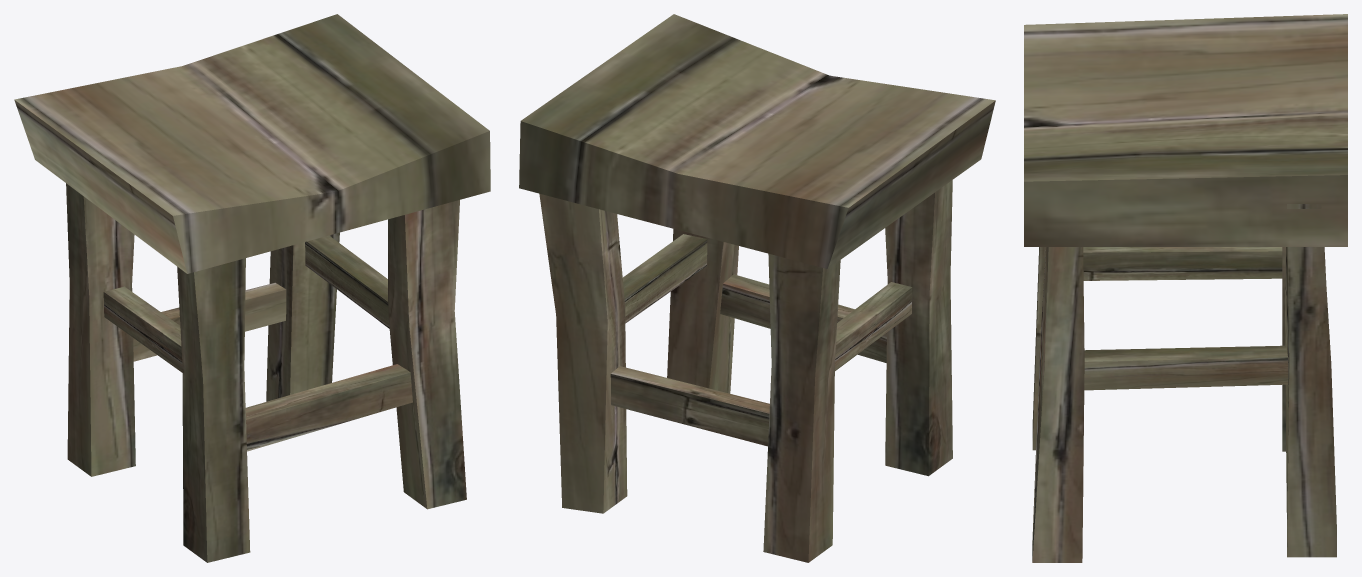
File: stool_shanty.fbx
3 views of the same model, side by side, from view 1: azimuth 30°, elevation 25°; view 2: azimuth 150°, elevation 25°; view 3: azimuth 270°, elevation 25° (orthographic). The views are drawn at different scales.
Visible parts, largest first — view 1: barstool_seat1, barstool_leg09, barstool_leg07, barstool_leg010, barstool_leg08, barstool_bar05, barstool_bar07, barstool_bar08, barstool_bar06; view 2: barstool_seat1, barstool_leg08, barstool_leg010, barstool_leg07, barstool_leg09, barstool_bar06, barstool_bar07, barstool_bar08, barstool_bar05; view 3: barstool_seat1, barstool_leg09, barstool_leg08, barstool_bar07, barstool_bar08, barstool_leg07, barstool_leg010.
Part boxes in pixels (x1,y1,x2,y2): barstool_seat1: (14, 14, 490, 273); barstool_leg09: (388, 200, 466, 509); barstool_leg07: (177, 258, 250, 562); barstool_leg010: (66, 183, 135, 476); barstool_leg08: (266, 232, 339, 401); barstool_bar05: (245, 364, 412, 451); barstool_bar07: (305, 235, 389, 328); barstool_bar08: (103, 286, 182, 372); barstool_bar06: (133, 282, 286, 361); barstool_seat1: (519, 14, 995, 268); barstool_leg08: (539, 193, 627, 513); barstool_leg010: (763, 253, 840, 562); barstool_leg07: (885, 180, 952, 476); barstool_leg09: (667, 229, 738, 393); barstool_bar06: (610, 366, 769, 446); barstool_bar07: (622, 234, 707, 323); barstool_bar08: (835, 282, 912, 370); barstool_bar05: (720, 274, 886, 362); barstool_seat1: (1024, 14, 1347, 246); barstool_leg09: (1032, 247, 1084, 562); barstool_leg08: (1285, 204, 1336, 557); barstool_bar07: (1084, 345, 1288, 390); barstool_bar08: (1083, 247, 1282, 280); barstool_leg07: (1032, 247, 1045, 450); barstool_leg010: (1282, 247, 1326, 451).
Size of the model in its own units: 138 by 152 by 111.
Materials: 1 (1 with a texture image).
